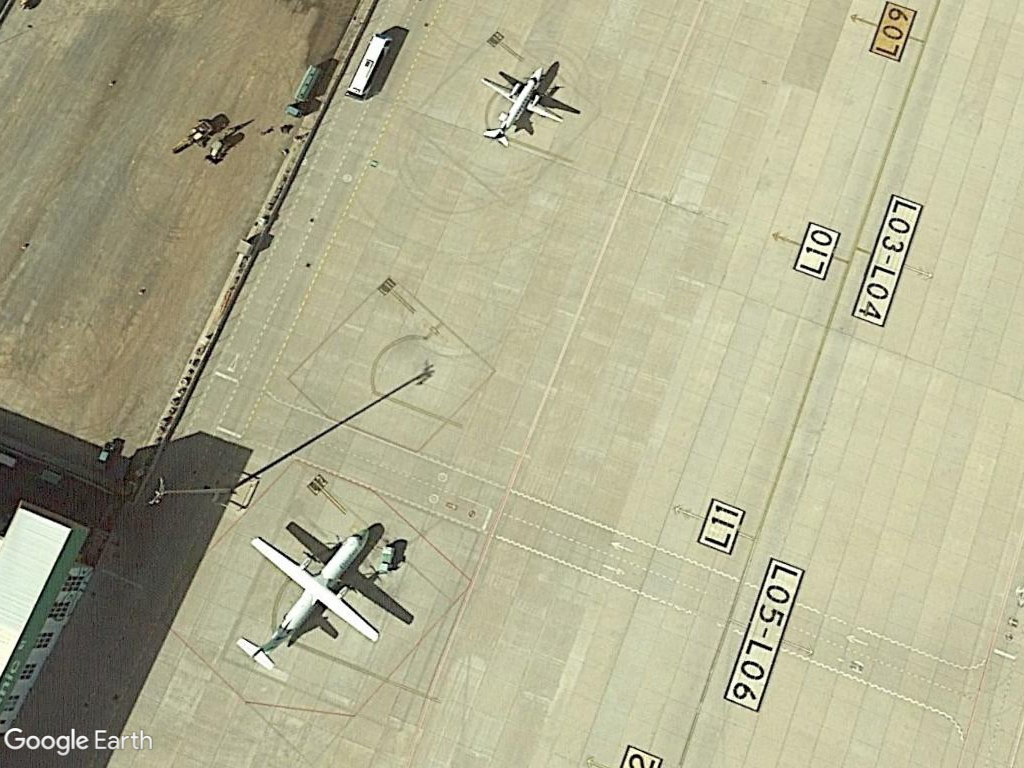bus: (339, 25, 397, 106)
propeller: (238, 512, 386, 680), (470, 59, 572, 151)
